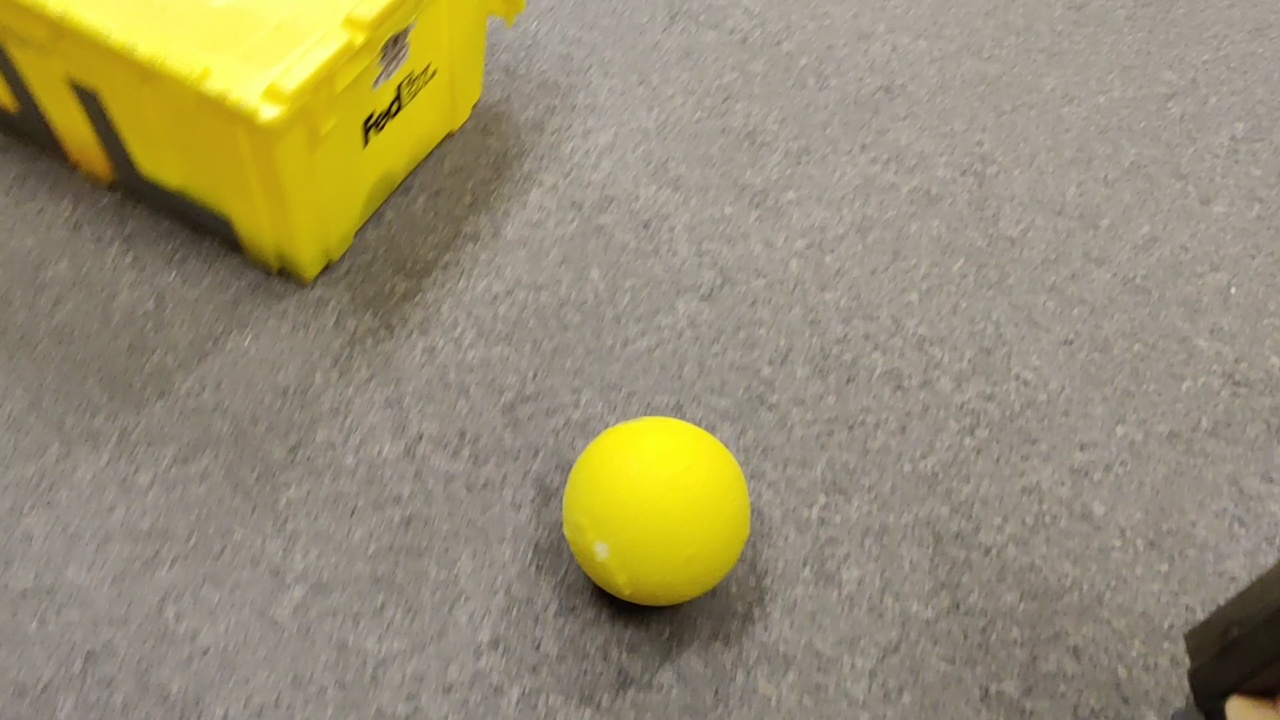Ball: (558, 415, 753, 604)
